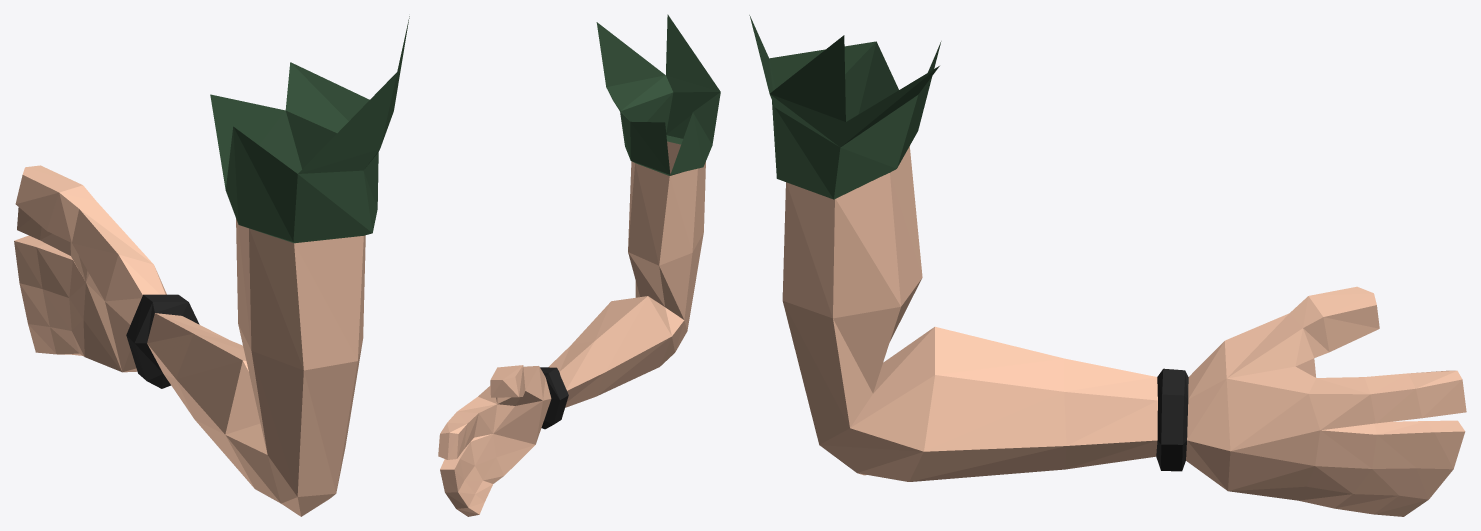
File: ShopKeeper_01_ArmR_88_01_A.obj
3 views of the same model, side by side, from view 1: azimuth 30°, elevation 25°; view 2: azimuth 150°, elevation 25°; view 3: azimuth 270°, elevation 25° (orthographic). The views are drawn at different scales.
Visible parts, largest first — view 1: ShopKeeper_01_ArmR_88_01_A; view 2: ShopKeeper_01_ArmR_88_01_A; view 3: ShopKeeper_01_ArmR_88_01_A.
Part boxes in pixels (x1,y1,x2,y2): ShopKeeper_01_ArmR_88_01_A: (14,16,409,516); ShopKeeper_01_ArmR_88_01_A: (438,14,720,516); ShopKeeper_01_ArmR_88_01_A: (749,15,1466,516).
Bounding box in the file's own units: 0.1602 × 0.48 × 0.5958.
1 material, 1 textured.
